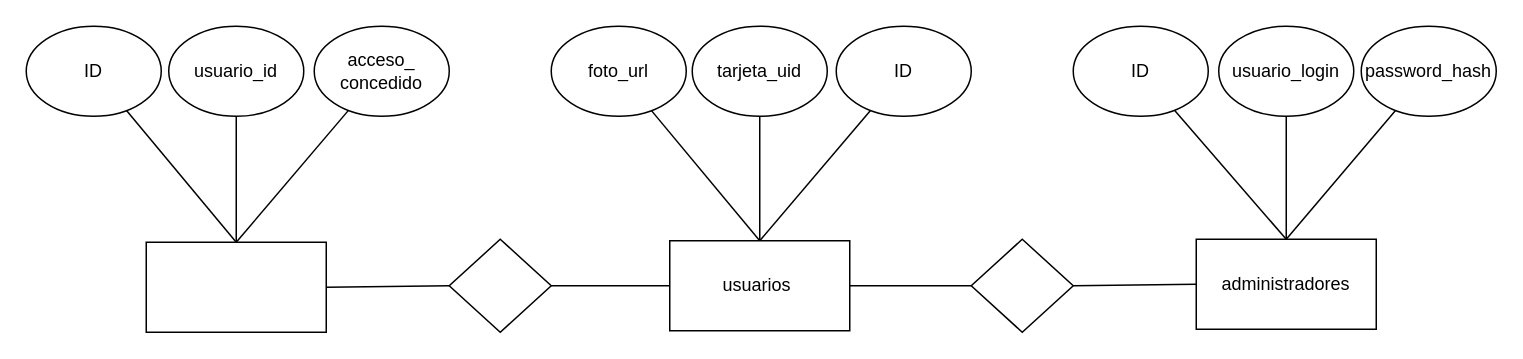
Image size: 1523x359. Some labels were removed from this diagram. The shapes that lost their labels are listed below. From the top down, each one's centre as x and y in pixels, then its label:
pixel 235 286: registro_accesos
pixel 499 285: logs
pixel 1021 285: creación
